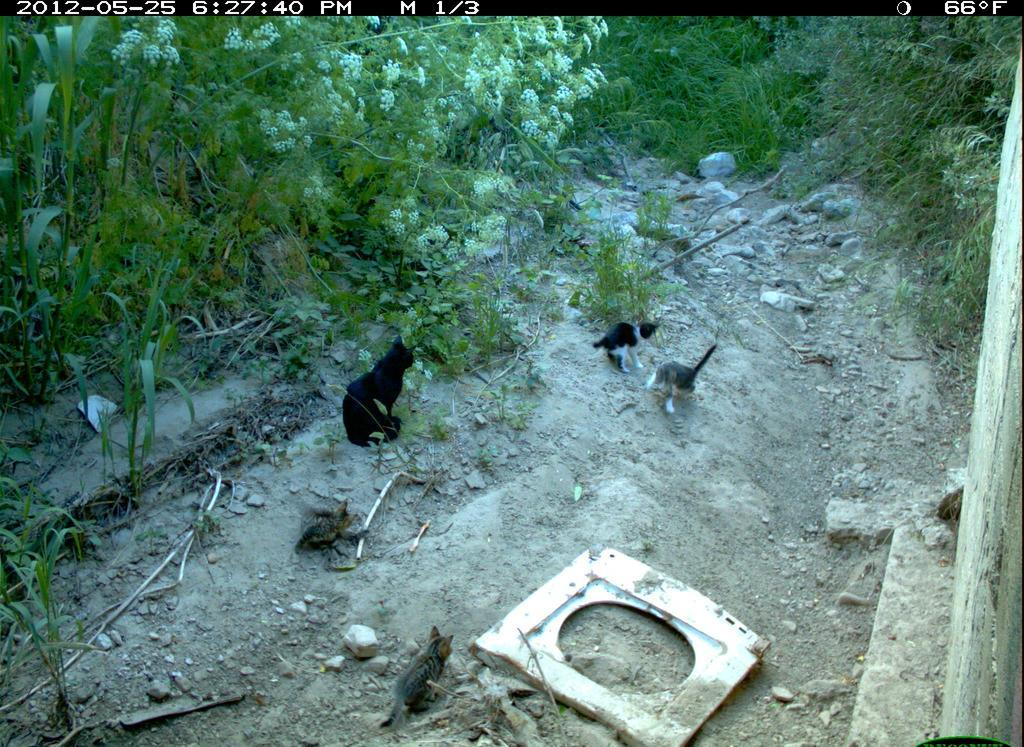cat: (369, 620, 473, 742), (335, 333, 425, 451), (287, 496, 373, 565), (653, 337, 721, 413), (592, 313, 660, 381)
